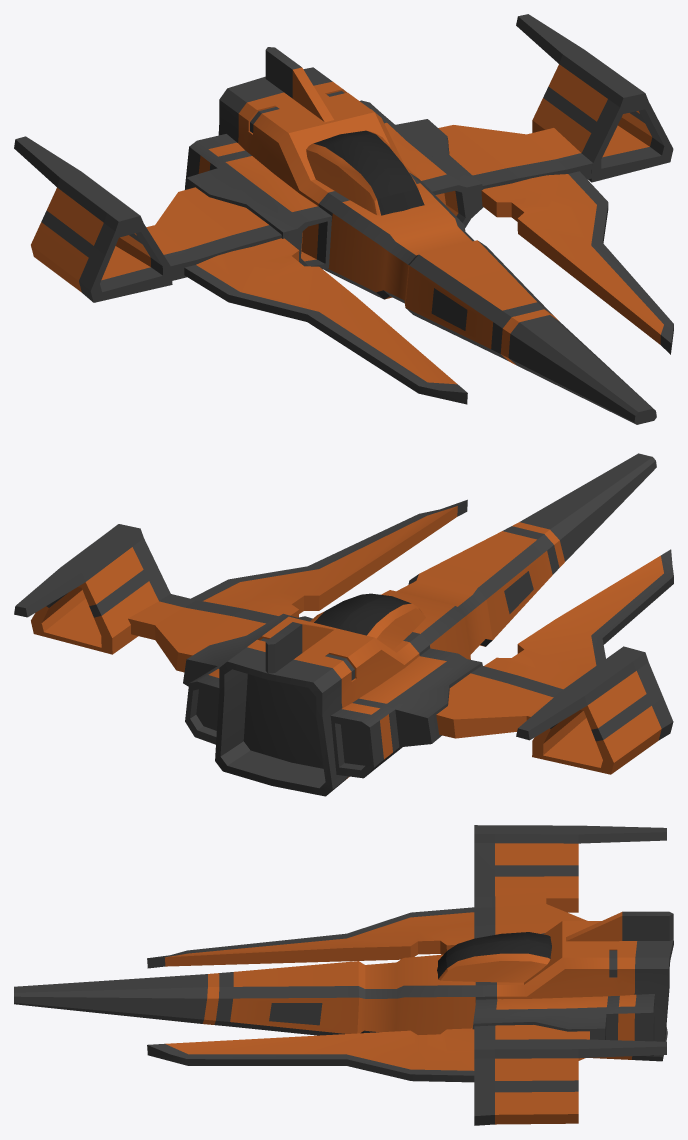
File: uCeLfsdmNP.glb
3 views of the same model, one above another, from view 1: azimuth 30°, elevation 25°; view 2: azimuth 150°, elevation 25°; view 3: azimuth 270°, elevation 25° (orthographic). The views are drawn at different scales.
Parts seen in each view (by area): view 1: Spaceship_RaeTheRedPanda; view 2: Spaceship_RaeTheRedPanda; view 3: Spaceship_RaeTheRedPanda.
Boxes of the visible parts, x1,y1,x2,y2 form: Spaceship_RaeTheRedPanda: (14, 14, 673, 424); Spaceship_RaeTheRedPanda: (14, 453, 673, 796); Spaceship_RaeTheRedPanda: (14, 825, 673, 1125).
Bounding box in the file's own units: 9.95 × 2.35 × 11.17.
1 material, 1 textured.
